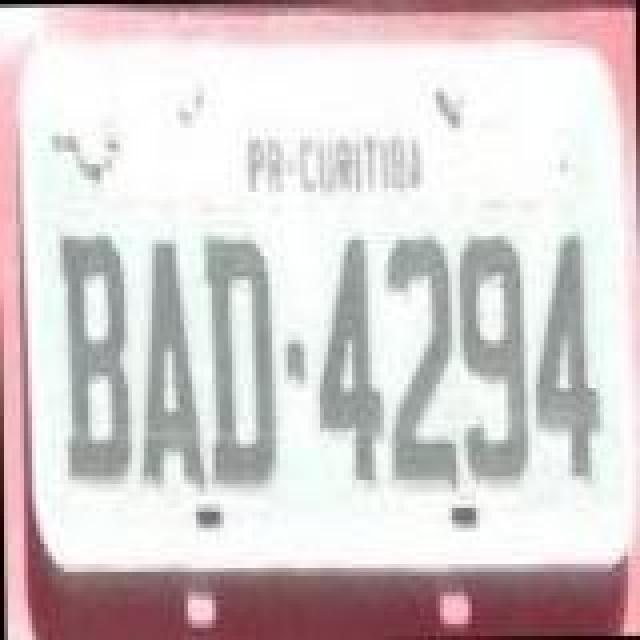2: (382, 226, 458, 486)
4: (310, 232, 386, 488), (528, 226, 600, 478)
9: (458, 228, 534, 484)
A: (136, 236, 208, 500)
B: (58, 232, 134, 488)
D: (202, 230, 278, 490)
